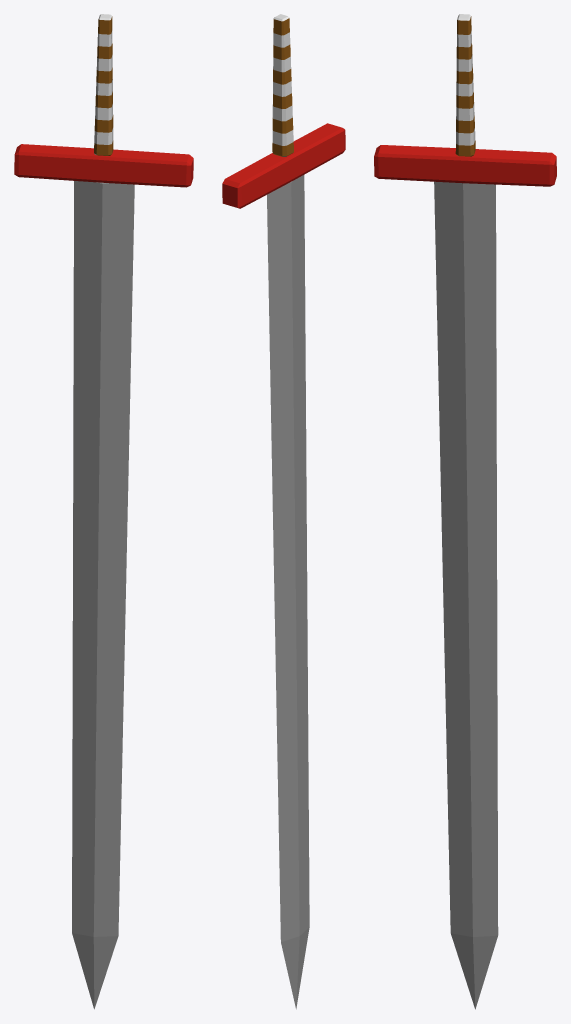
File: PEDANG.fbx
The picture shows the model from 3 angles, left to right: view 1: azimuth 90°, elevation 25°; view 2: azimuth 150°, elevation 25°; view 3: azimuth 270°, elevation 25°; orthographic projection. The views are drawn at different scales.
Visible parts, largest first — view 1: Cube; view 2: Cube; view 3: Cube.
Part boxes in pixels (x1,y1,x2,y2): Cube: [14, 14, 193, 1009]; Cube: [222, 14, 345, 1009]; Cube: [374, 14, 556, 1009].
Size of the model in its own units: 22.43 by 531 by 87.62.
